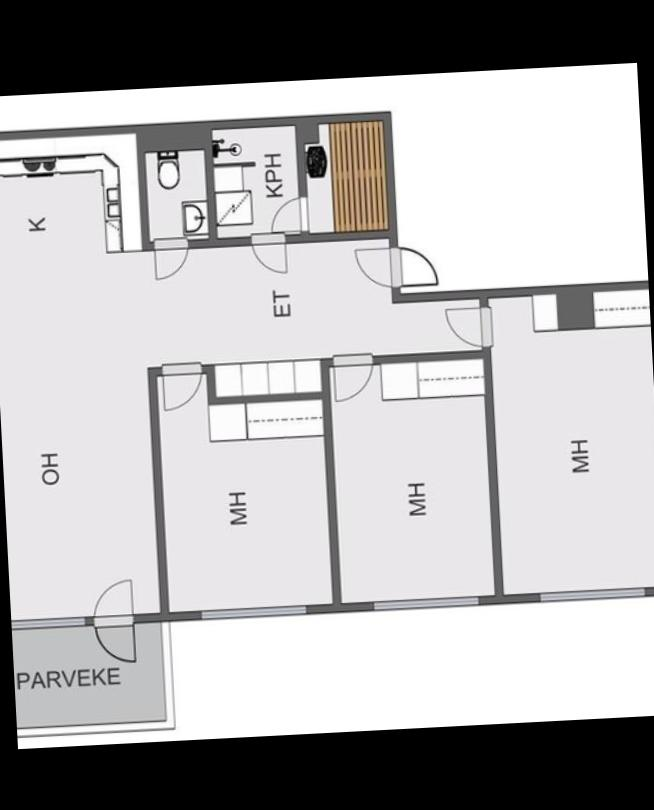door: (327, 342, 377, 404), (154, 357, 205, 414), (389, 240, 443, 290), (442, 300, 494, 350), (91, 572, 138, 627), (148, 230, 192, 286), (354, 244, 401, 292), (248, 228, 290, 278), (93, 615, 136, 663), (267, 194, 313, 236)
window: (528, 580, 654, 605), (364, 590, 488, 615), (194, 599, 314, 624), (10, 614, 92, 632)
